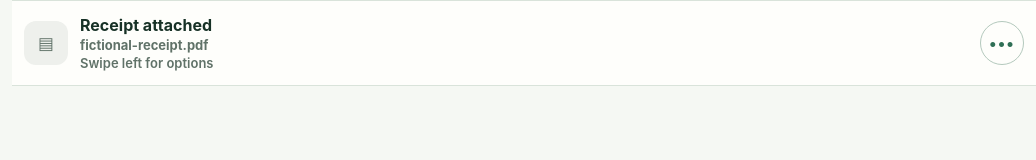
Test: resists overswipe, stretches Remove, and only settles the tray open
The width and height of the screenshot is (1036, 160).
Press the mouse on the element with test id "receipt-attachment-row" at (524, 43), box [12, 0, 1035, 86]
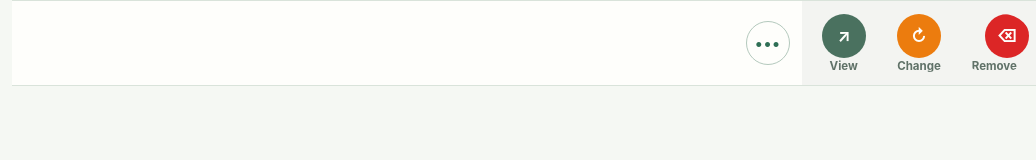
Expected: the button named "Receipt options" is expanded, [746, 21, 790, 65]
